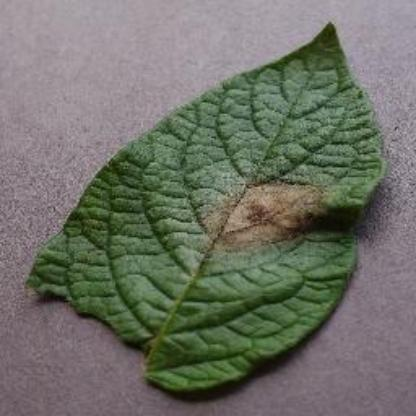Late-Blight: (21, 17, 396, 403)
